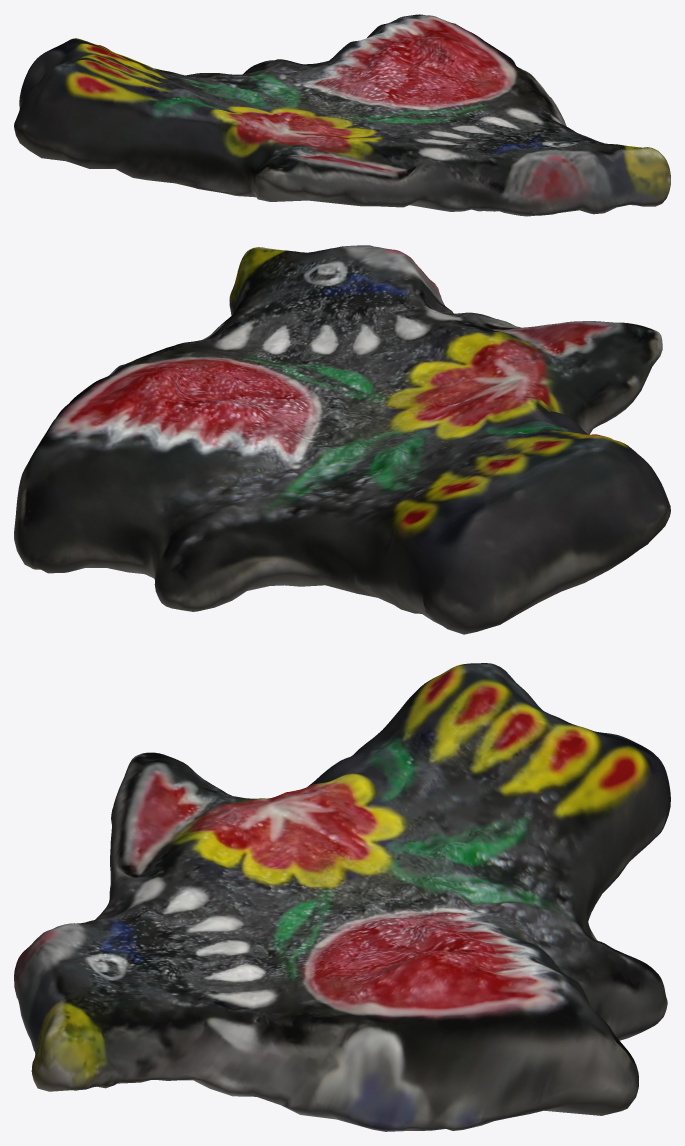
3 renders of one model, top to bottom at view 1: azimuth 30°, elevation 25°; view 2: azimuth 150°, elevation 25°; view 3: azimuth 270°, elevation 25°, orthographic. The views are drawn at different scales.
Size of the model in its own units: 0.6021 by 0.1846 by 0.5307.
Materials: 1 (1 with a texture image).
